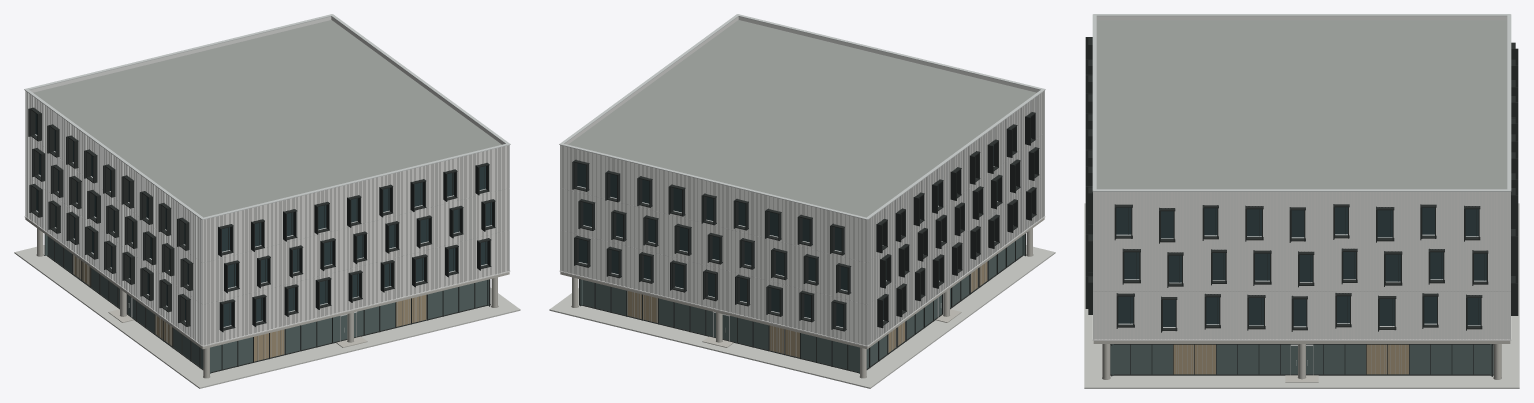
The model's file is tda-exterior.glb.
3 views of the same model, side by side, from view 1: azimuth 30°, elevation 25°; view 2: azimuth 150°, elevation 25°; view 3: azimuth 270°, elevation 25° (orthographic). The views are drawn at different scales.
Visible parts, largest first — view 1: Cubierta, Acanalado_aluminio, Revestimiento_marfil, Marcos_antracita, Pavimento, Vidrio_PB, Vidrio_oscuro, Metal_claro, Hormigon, Paneles_PB, Juntas_paneles; view 2: Cubierta, Acanalado_aluminio, Revestimiento_marfil, Marcos_antracita, Pavimento, Vidrio_PB, Vidrio_oscuro, Metal_claro, Hormigon, Paneles_PB, Juntas_paneles; view 3: Cubierta, Revestimiento_marfil, Acanalado_aluminio, Marcos_antracita, Vidrio_oscuro, Vidrio_PB, Pavimento, Metal_claro, Paneles_PB, Hormigon, Juntas_paneles.
Part boxes in pixels (box(x1,y1,x2,y2)): Cubierta: box(33, 20, 501, 217); Acanalado_aluminio: box(25, 91, 509, 345); Revestimiento_marfil: box(24, 16, 510, 346); Marcos_antracita: box(28, 107, 495, 373); Pavimento: box(14, 245, 520, 388); Vidrio_PB: box(45, 234, 488, 373); Vidrio_oscuro: box(35, 113, 491, 326); Metal_claro: box(24, 14, 510, 341); Hormigon: box(25, 218, 509, 378); Paneles_PB: box(73, 255, 426, 361); Juntas_paneles: box(65, 162, 506, 360); Cubierta: box(568, 20, 1036, 217); Acanalado_aluminio: box(560, 90, 1044, 345); Revestimiento_marfil: box(559, 16, 1045, 346); Marcos_antracita: box(572, 112, 1039, 373); Pavimento: box(549, 245, 1055, 388); Vidrio_PB: box(580, 234, 1024, 373); Vidrio_oscuro: box(577, 145, 997, 327); Metal_claro: box(559, 14, 1045, 341); Hormigon: box(560, 218, 1044, 378); Paneles_PB: box(627, 261, 987, 357); Juntas_paneles: box(561, 155, 1014, 356); Cubierta: box(1096, 20, 1507, 189); Revestimiento_marfil: box(1092, 16, 1511, 340); Acanalado_aluminio: box(1093, 192, 1510, 339); Marcos_antracita: box(1085, 37, 1518, 376); Vidrio_oscuro: box(1116, 207, 1486, 326); Vidrio_PB: box(1110, 344, 1493, 375); Pavimento: box(1084, 203, 1519, 388); Metal_claro: box(1092, 14, 1511, 374); Paneles_PB: box(1173, 344, 1408, 374); Hormigon: box(1093, 341, 1510, 382); Juntas_paneles: box(1093, 291, 1510, 373).
Size of the model in its own units: 32.5 by 16.01 by 32.5.
